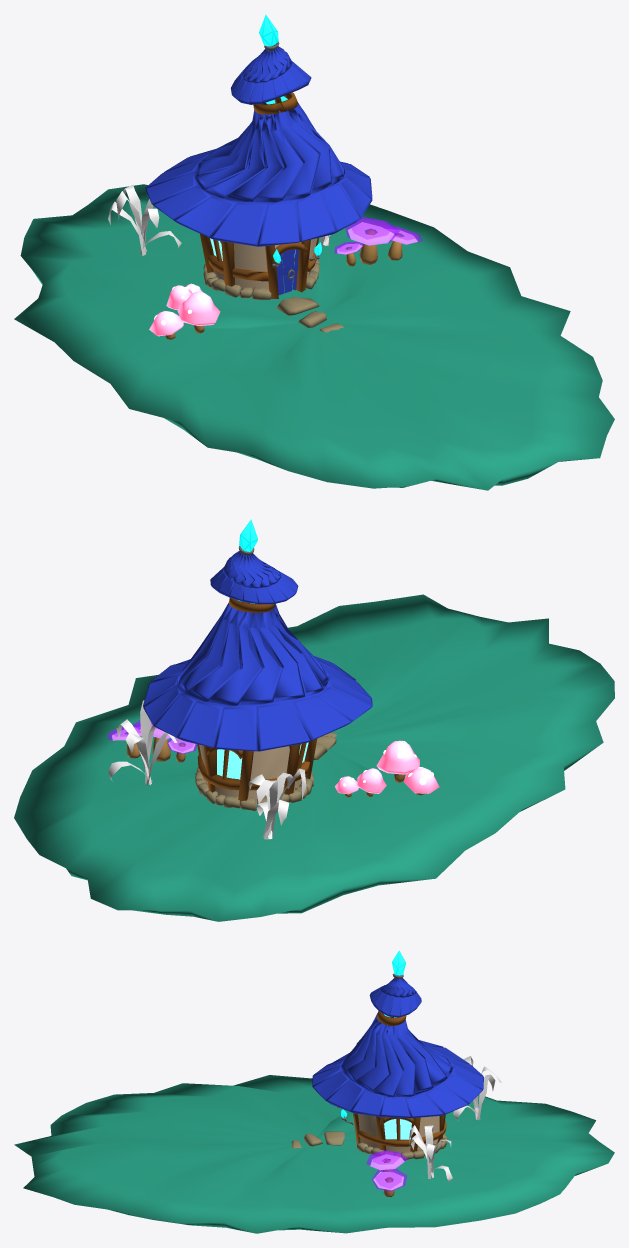
File: fantasy_magic_enemy.glb
The picture shows the model from 3 angles, top to bottom: view 1: azimuth 30°, elevation 25°; view 2: azimuth 150°, elevation 25°; view 3: azimuth 270°, elevation 25°; orthographic projection. The views are drawn at different scales.
Visible parts, largest first — view 1: House; view 2: House; view 3: House.
Boxes of the visible parts, left/top/right/bottom form: House: left=14, top=14, right=614, bottom=490; House: left=14, top=519, right=614, bottom=921; House: left=14, top=950, right=614, bottom=1233.
Size of the model in its own units: 15.86 by 10.17 by 25.56.
